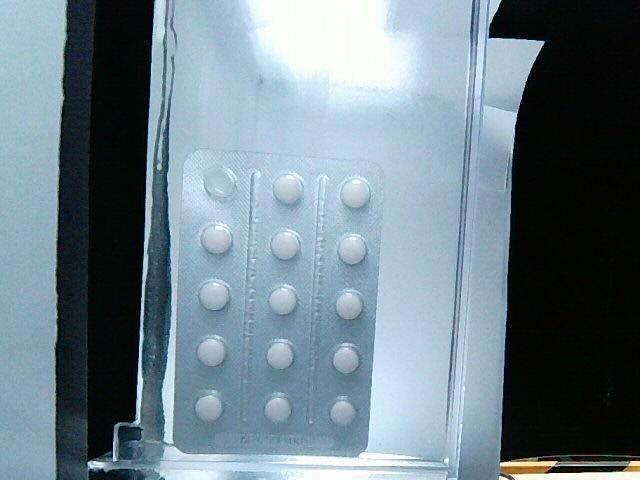Light Front: (175, 151, 382, 455)
No Pill Front: (203, 164, 238, 199)
Pill Front: (193, 388, 230, 426), (329, 287, 367, 323), (337, 175, 371, 214), (200, 219, 235, 256), (197, 277, 233, 312), (263, 335, 298, 371), (196, 333, 230, 370), (337, 232, 370, 267), (272, 172, 305, 206), (266, 284, 299, 318), (260, 393, 295, 425), (268, 227, 302, 259), (327, 396, 361, 428), (329, 343, 361, 375)
